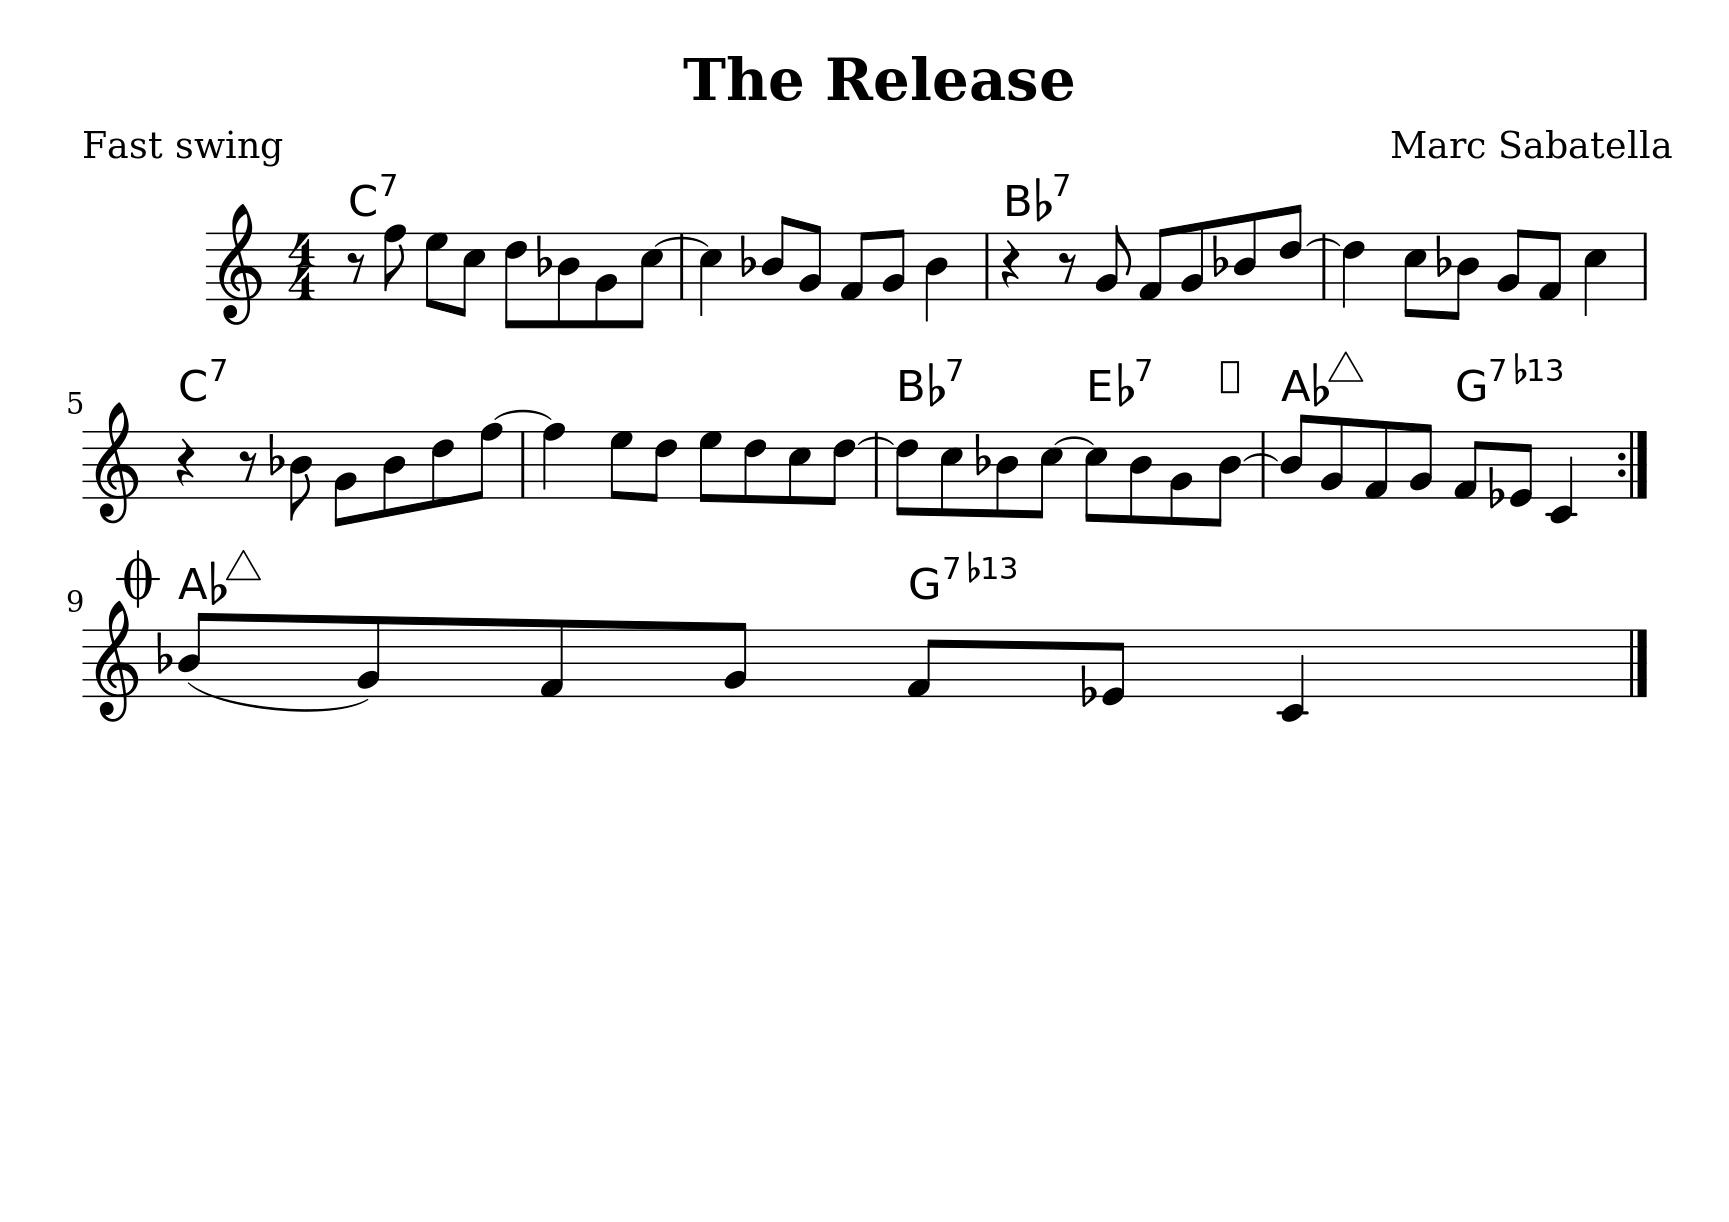4: (284, 263, 320, 299), (286, 230, 319, 265)
4_-2: (1545, 427, 1576, 525), (1280, 626, 1306, 722)
4_4: (923, 230, 948, 321)
4_5: (1581, 229, 1607, 317), (698, 230, 723, 317)
4_6: (1340, 230, 1365, 309)
4_8: (541, 421, 566, 501)
5: (66, 389, 85, 415)
7: (1133, 354, 1153, 385), (209, 354, 227, 384), (945, 354, 964, 382), (379, 171, 397, 196), (1054, 171, 1069, 197)
8_0: (1508, 427, 1535, 508), (1101, 626, 1128, 706)
8_1: (905, 627, 940, 698), (1362, 417, 1391, 500), (537, 618, 566, 700), (1451, 428, 1484, 500), (1138, 225, 1169, 302), (839, 229, 871, 302), (1537, 229, 1562, 302)
8_2: (1093, 224, 1130, 300), (591, 229, 619, 331), (332, 428, 358, 529), (1167, 428, 1194, 528), (1495, 226, 1528, 300), (1319, 414, 1346, 500), (356, 614, 381, 698), (1406, 421, 1433, 500), (1179, 220, 1204, 302), (797, 221, 822, 302), (723, 619, 748, 700), (880, 226, 905, 302)
8_4: (1206, 428, 1244, 529), (1446, 230, 1480, 323), (1277, 413, 1313, 500), (176, 610, 210, 698), (759, 212, 792, 302), (554, 229, 582, 331), (1126, 428, 1153, 528), (287, 428, 315, 522), (1231, 210, 1258, 302), (993, 428, 1019, 520), (381, 428, 407, 518)
8_5: (631, 229, 664, 331), (1028, 428, 1061, 520), (453, 230, 486, 317), (1083, 428, 1108, 525), (1401, 230, 1428, 320), (939, 428, 964, 520), (787, 428, 812, 507)
8_6: (1277, 202, 1303, 302), (824, 428, 857, 507), (502, 229, 527, 331), (646, 428, 678, 503), (894, 428, 919, 518), (430, 428, 455, 509), (742, 428, 765, 505)
8_7: (423, 230, 449, 309), (697, 428, 723, 503), (608, 428, 634, 500)
8_8: (469, 421, 504, 503), (381, 222, 406, 300)
9: (66, 586, 85, 614)
Coda: (115, 546, 156, 608)
Final_barline: (1623, 627, 1650, 696)
Flat: (1484, 464, 1506, 510), (1077, 663, 1097, 710), (534, 231, 553, 278), (972, 430, 990, 476), (738, 231, 756, 276), (1211, 231, 1229, 276), (266, 430, 283, 477), (153, 630, 172, 673), (1434, 231, 1451, 276)
Gclef: (215, 200, 264, 325), (93, 399, 140, 524), (93, 598, 137, 723)
Rests4: (174, 435, 196, 488), (1001, 239, 1020, 290)
Rests8: (345, 249, 366, 284), (1056, 249, 1077, 284), (238, 448, 259, 481)
RightRepeatSign: (1615, 428, 1651, 499)
Single_barline: (1636, 231, 1654, 299), (516, 431, 531, 499), (675, 234, 691, 299), (980, 233, 994, 298)
Slur: (494, 407, 553, 423), (654, 235, 710, 247), (1054, 434, 1095, 447), (1243, 450, 1278, 462), (1307, 235, 1340, 247), (857, 435, 894, 446)
TimeSig: (287, 231, 319, 300)
